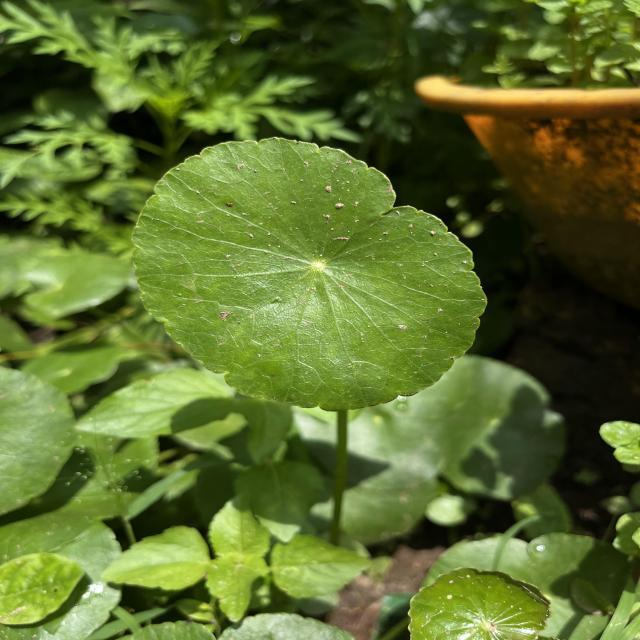Bacopa monnieri: (130, 132, 490, 414), (404, 565, 556, 640)
